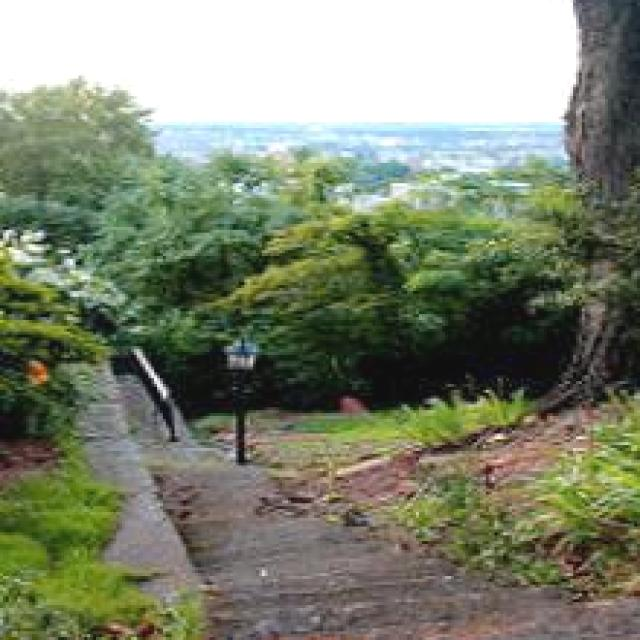downstair: (208, 496, 449, 630)
